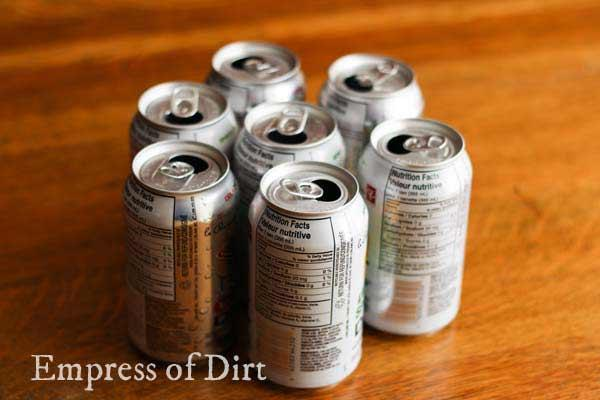metal: (326, 49, 470, 334), (235, 90, 365, 388), (126, 77, 242, 360), (206, 41, 309, 101)
